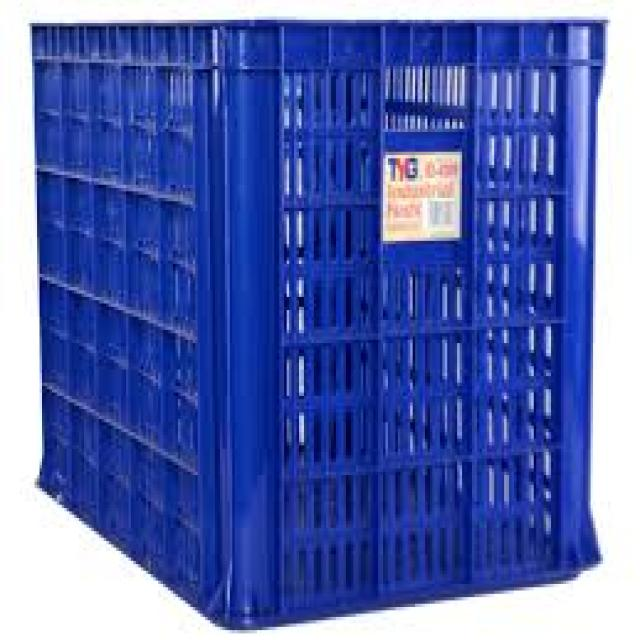basket: (33, 22, 602, 629)
